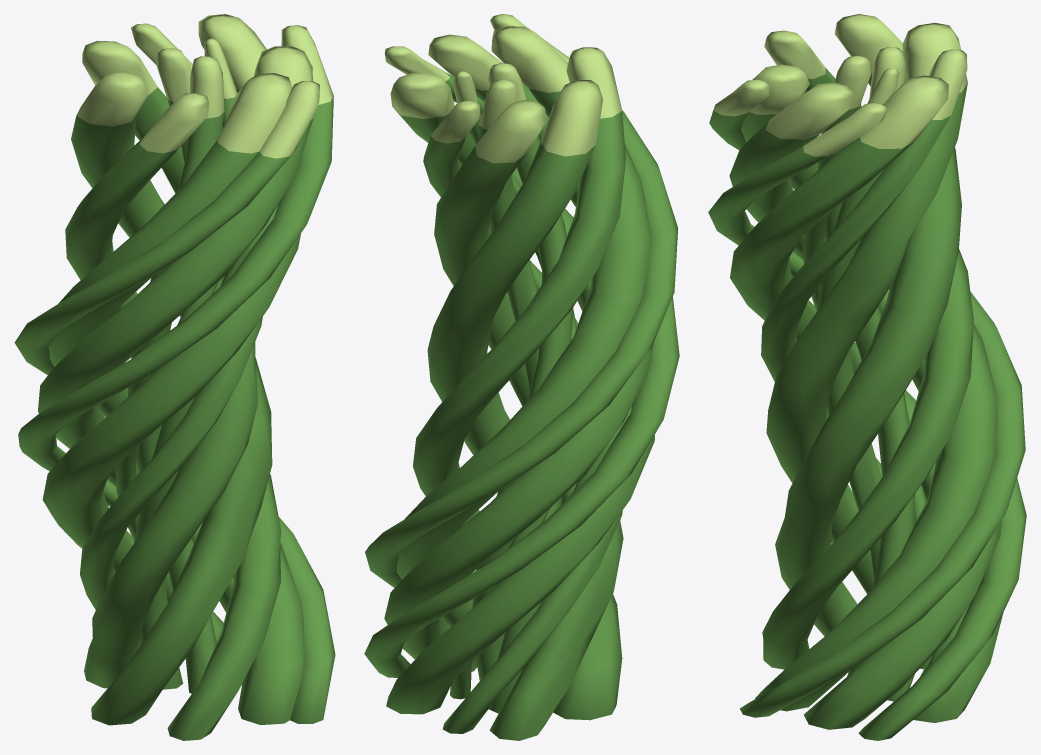
Rendered from ENV_Vine-elevator_single.fbx.
3 renders of one model, left to right at view 1: azimuth 30°, elevation 25°; view 2: azimuth 150°, elevation 25°; view 3: azimuth 270°, elevation 25°, orthographic. The views are drawn at different scales.
Parts seen in each view (by area): view 1: Geyser_rising; view 2: Geyser_rising; view 3: Geyser_rising.
Boxes of the visible parts, x1,y1,x2,y2 form: Geyser_rising: (14,14,335,740); Geyser_rising: (364,14,679,740); Geyser_rising: (708,14,1026,740).
Size of the model in its own units: 100 by 100 by 218.
